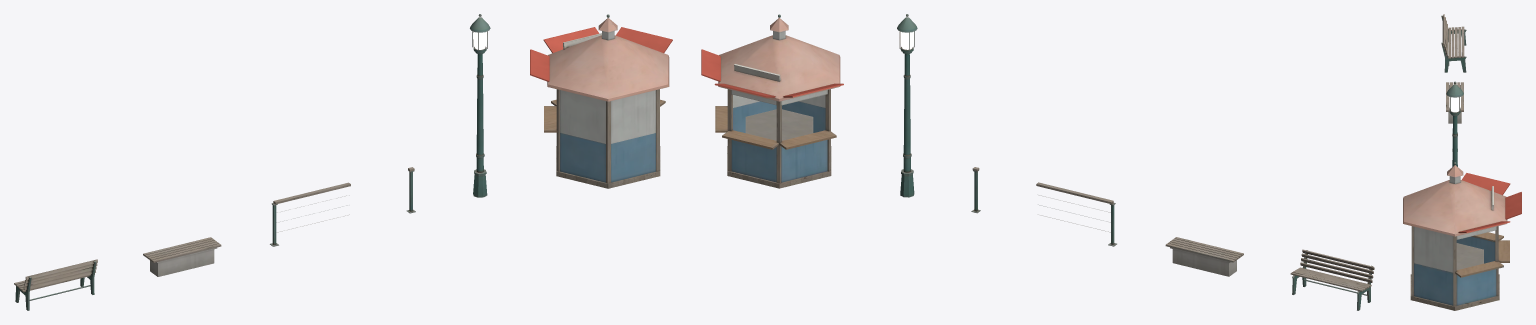
File: set_waterfront.glb
3 renders of one model, left to right at view 1: azimuth 30°, elevation 25°; view 2: azimuth 150°, elevation 25°; view 3: azimuth 270°, elevation 25°, orthographic. The views are drawn at different scales.
Parts seen in each view (by area): view 1: pier_kiosk_lod0, bench_backless_lod0, promenade_lamp_lod0, promenade_bench_lod0, railing_2m_lod0; view 2: pier_kiosk_lod0, promenade_bench_lod0, bench_backless_lod0, promenade_lamp_lod0, railing_2m_lod0; view 3: pier_kiosk_lod0, promenade_bench_lod0, promenade_lamp_lod0, bench_backless_lod0.
Boxes of the visible parts, x1,y1,x2,y2 form: pier_kiosk_lod0: (530,14,672,188); bench_backless_lod0: (143,237,221,276); promenade_lamp_lod0: (470,14,490,197); promenade_bench_lod0: (14,259,97,310); railing_2m_lod0: (270,182,350,246); pier_kiosk_lod0: (701,14,843,188); promenade_bench_lod0: (1290,249,1374,310); bench_backless_lod0: (1165,237,1243,276); promenade_lamp_lod0: (897,14,917,197); railing_2m_lod0: (1036,182,1116,246); pier_kiosk_lod0: (1403,162,1521,310); promenade_bench_lod0: (1441,14,1466,72); promenade_lamp_lod0: (1446,81,1463,166); bench_backless_lod0: (1446,82,1463,123).
Size of what is drawn, in the model's own units: 17.53 by 4.59 by 3.2.
3 materials, 3 textured.
